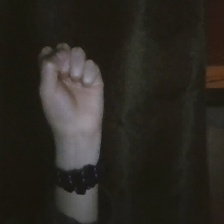S: (29, 35, 118, 150)
